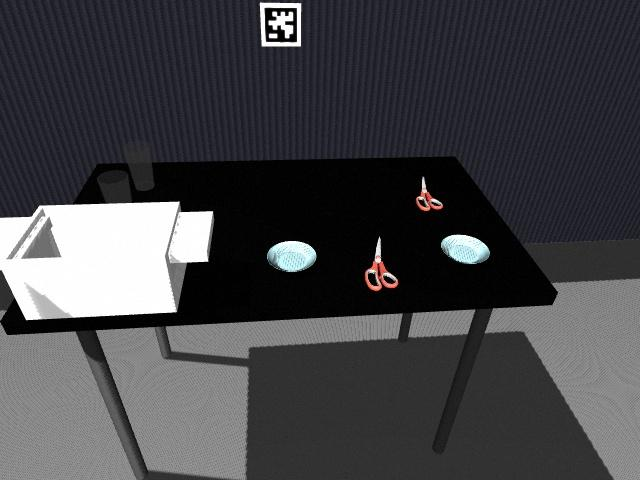cup: (124, 141, 155, 192), (97, 170, 131, 204)
plate: (265, 240, 318, 273), (439, 233, 492, 265)
scissors: (365, 233, 402, 292), (416, 175, 444, 212)
